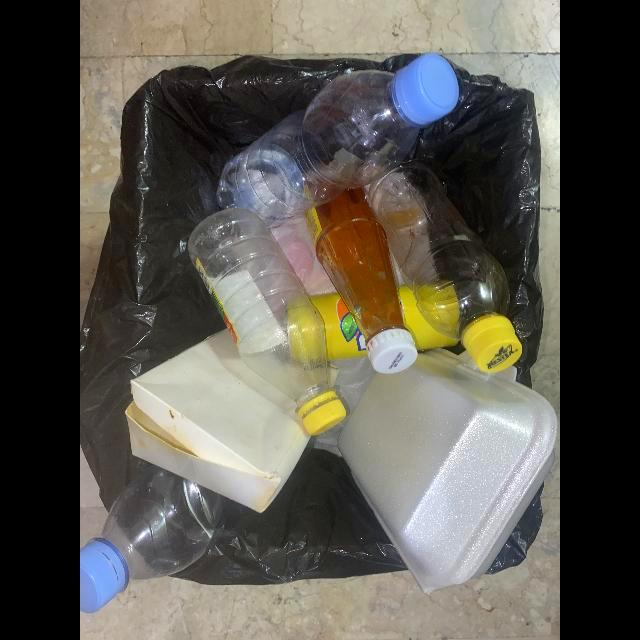cardboard: (124, 328, 311, 513)
glass_bottle: (304, 186, 419, 374)
plastic_bottle: (215, 52, 459, 229), (186, 207, 347, 437), (363, 163, 524, 373), (80, 467, 233, 613)
